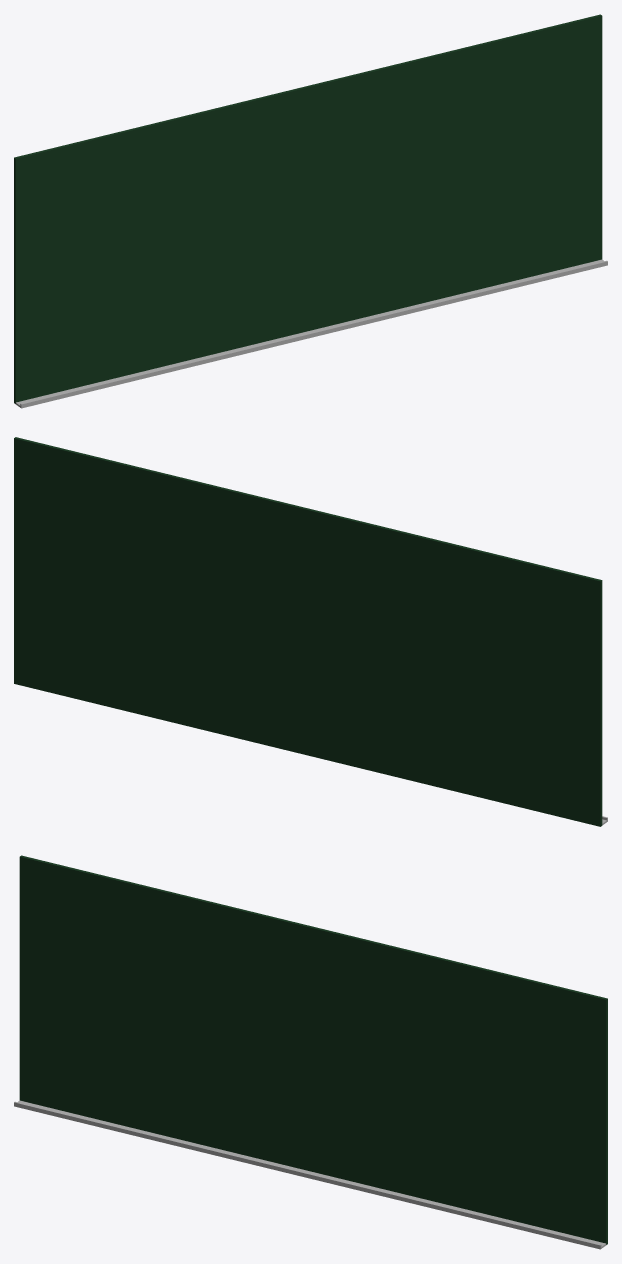
The model's file is lousa.obj.
The picture shows the model from 3 angles, top to bottom: view 1: azimuth 30°, elevation 25°; view 2: azimuth 150°, elevation 25°; view 3: azimuth 330°, elevation 25°; orthographic projection.
Parts seen in each view (by area): view 1: Cube_Cube; view 2: Cube_Cube; view 3: Cube_Cube.
Boxes of the visible parts, box(x1,y1,x2,y2) form: Cube_Cube: box(14, 14, 607, 408); Cube_Cube: box(14, 437, 607, 826); Cube_Cube: box(14, 855, 607, 1249).
Size of the model in its own units: 500 by 200 by 10.96.
